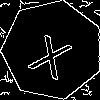X: (27, 25, 78, 81)
